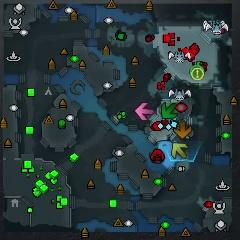Other: (189, 65, 204, 80)
x1: (135, 102, 155, 121)
x2: (172, 142, 188, 158)
x4: (161, 102, 178, 120)
x5: (173, 120, 192, 140)
